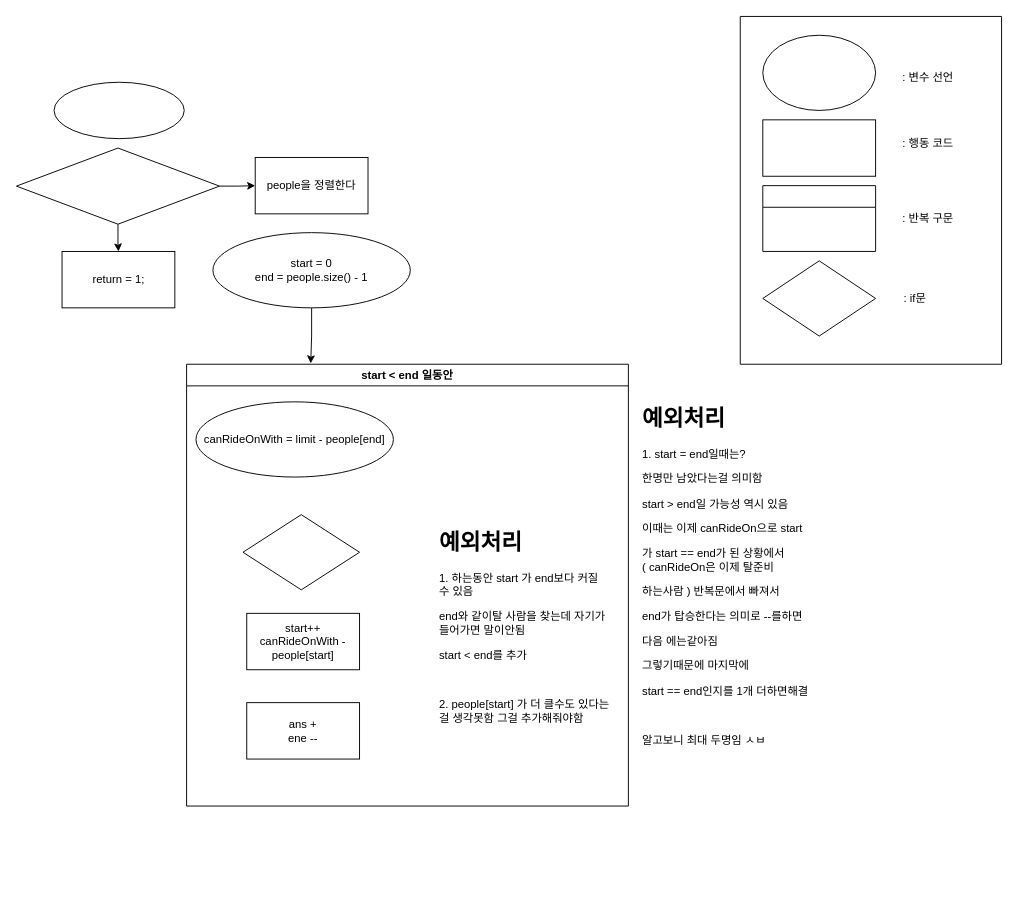
Some shapes in this 1018 by 917 pixel diagram are drawn without their labels. The centre of each missing label's shape, as x and y in pixels:
"ans = 0;" goes at [118,110].
"canRIdeOnWith >= 0 인동안" goes at [301,552].
"people의 size == 1?" goes at [117,185].
"~ 동안" goes at [819,218].
